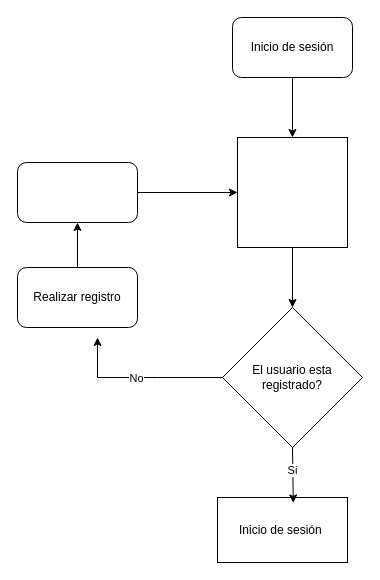
This 380x580 diagram has some shape labels left out. The centre of each missing label's shape, as x and y in pixels:
Ingreso de credenciales: (x=292, y=192)
Registro exitoso: (x=77, y=192)
